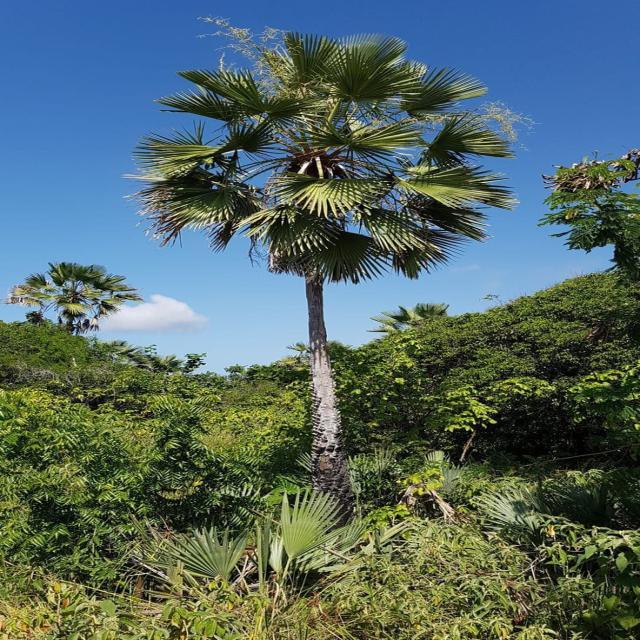Plam-Tree: (141, 30, 514, 498), (224, 98, 417, 284)
